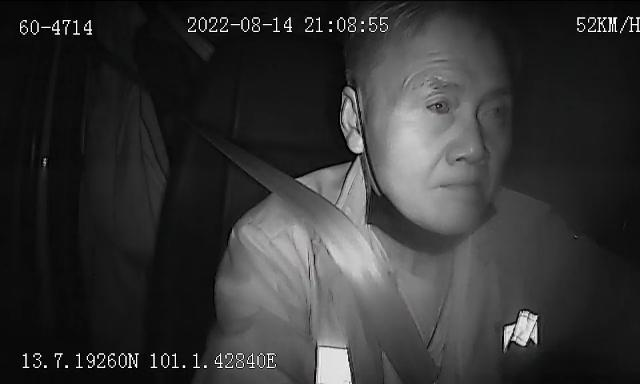SafeDriving: (418, 86, 458, 121), (474, 94, 512, 128)
Seatbelt: (203, 144, 439, 384)
